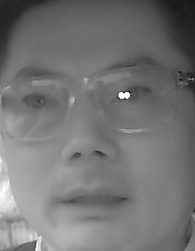eye: (20, 91, 57, 112)
glass: (92, 67, 178, 130), (3, 77, 75, 141)
mouth: (56, 177, 131, 225)
